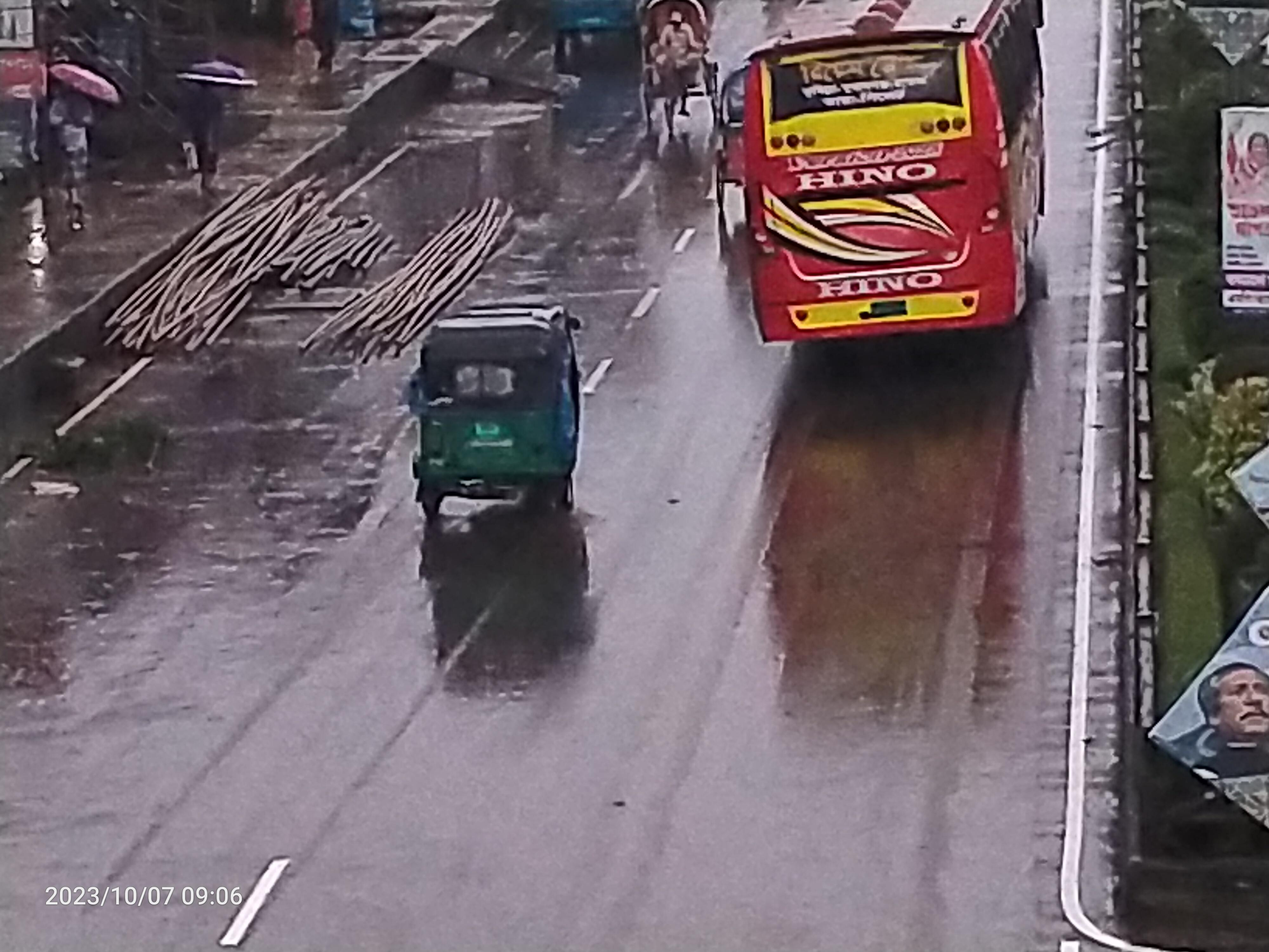Bus: (714, 0, 1224, 388)
Car: (621, 0, 742, 143)
